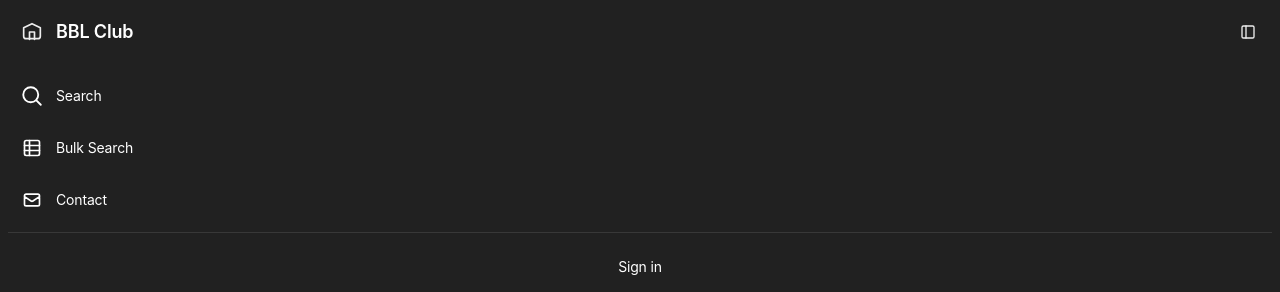
Scenario: SidebarNav › Collapsed State › toggles collapsed state when collapse button is clicked
Check: the text "Search" is shown, box [56,86,102,106]
Check: the text "Bulk Search" is shown, box [56,138,133,158]
Click to collapse
Click the button named "Collapse sidebar" at (1248, 32), box [1224,8,1272,56]
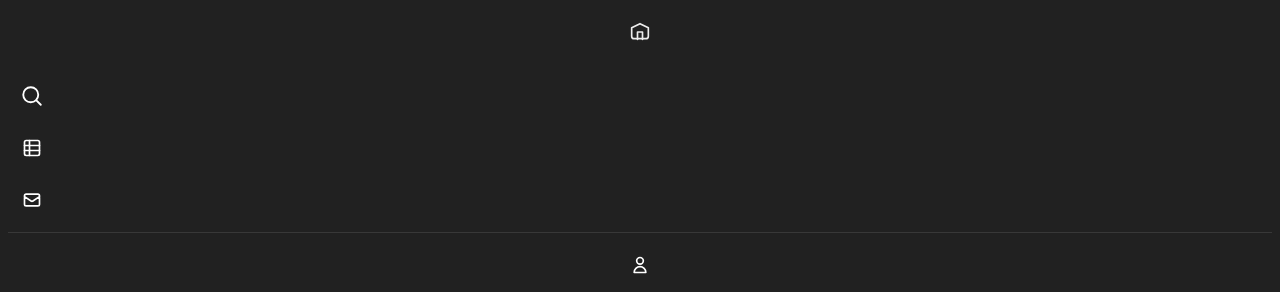
Check: the link named "Search" is shown, box [22,86,42,106]
Check: the text "Search" is gone
Check: the text "Bulk Search" is gone
